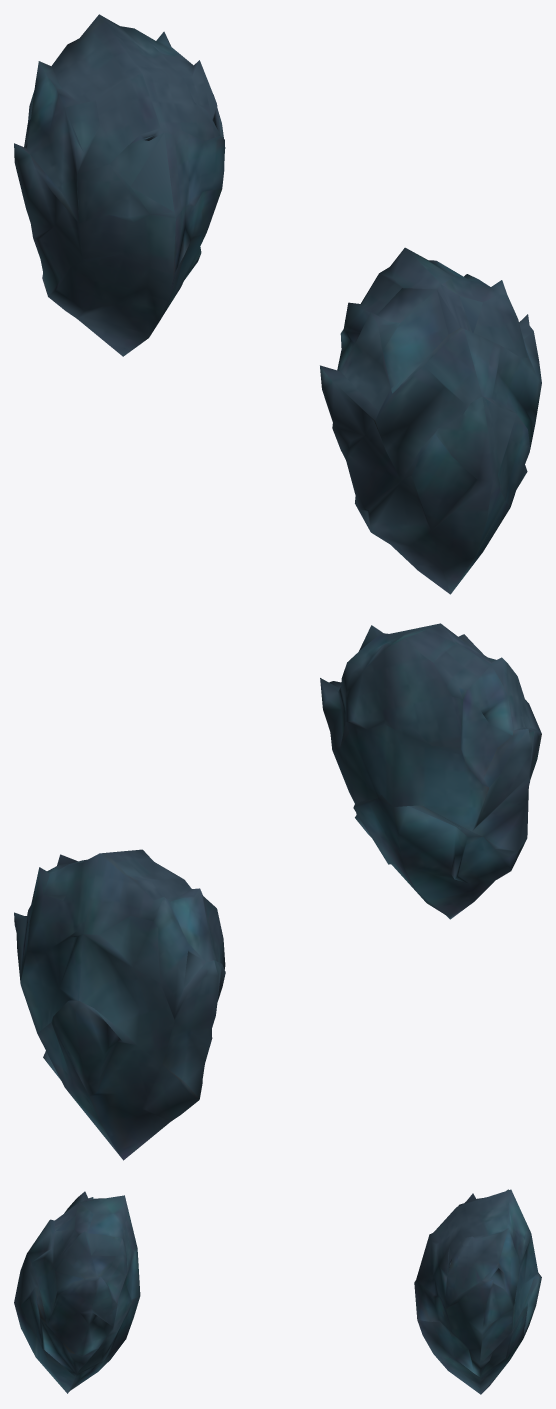
Rendered from escama_dragao.glb.
3 views of the same model, one above another, from view 1: azimuth 30°, elevation 25°; view 2: azimuth 150°, elevation 25°; view 3: azimuth 270°, elevation 25° (orthographic). The views are drawn at different scales.
Visible parts, largest first — view 1: geometry_0.001; view 2: geometry_0.001; view 3: geometry_0.001.
Part boxes in pixels (<box>): geometry_0.001: <box>14,14,541,594</box>; geometry_0.001: <box>14,623,541,1160</box>; geometry_0.001: <box>14,1189,541,1394</box>.
Size of the model in its own units: 0.2892 by 0.4292 by 1.
Materials: 1 (1 with a texture image).
